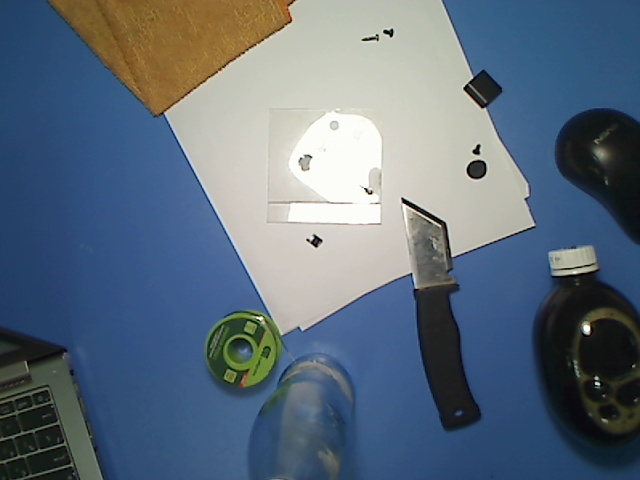plast_bottle: (524, 243, 640, 458)
